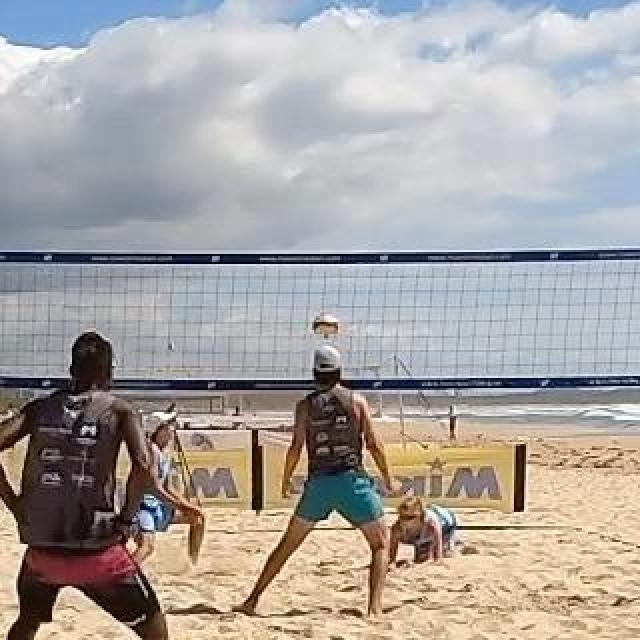volleyball: (312, 313, 338, 337)
